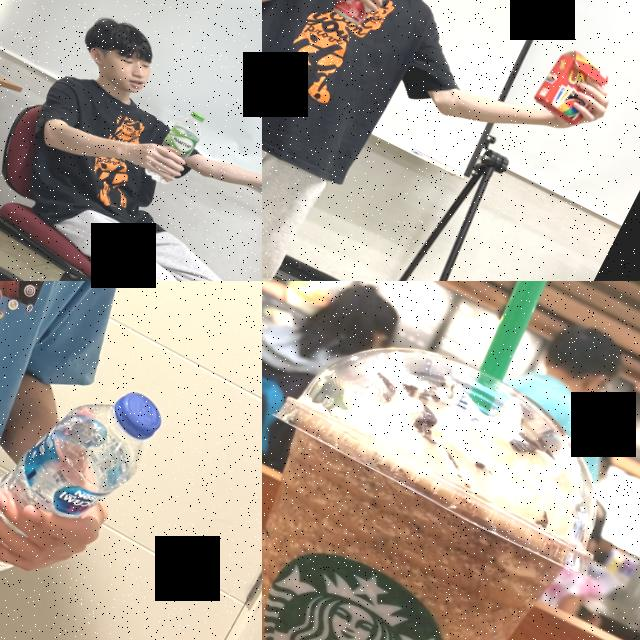bottle: (0, 342, 173, 616), (142, 103, 211, 191)
can: (328, 0, 399, 31)
cup: (262, 296, 640, 640)
